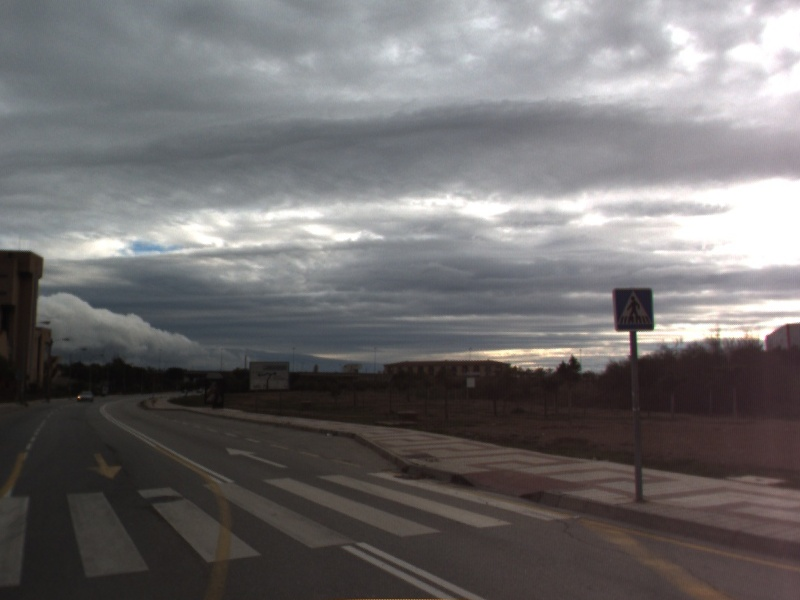STRAIGHT: (224, 445, 290, 471)
